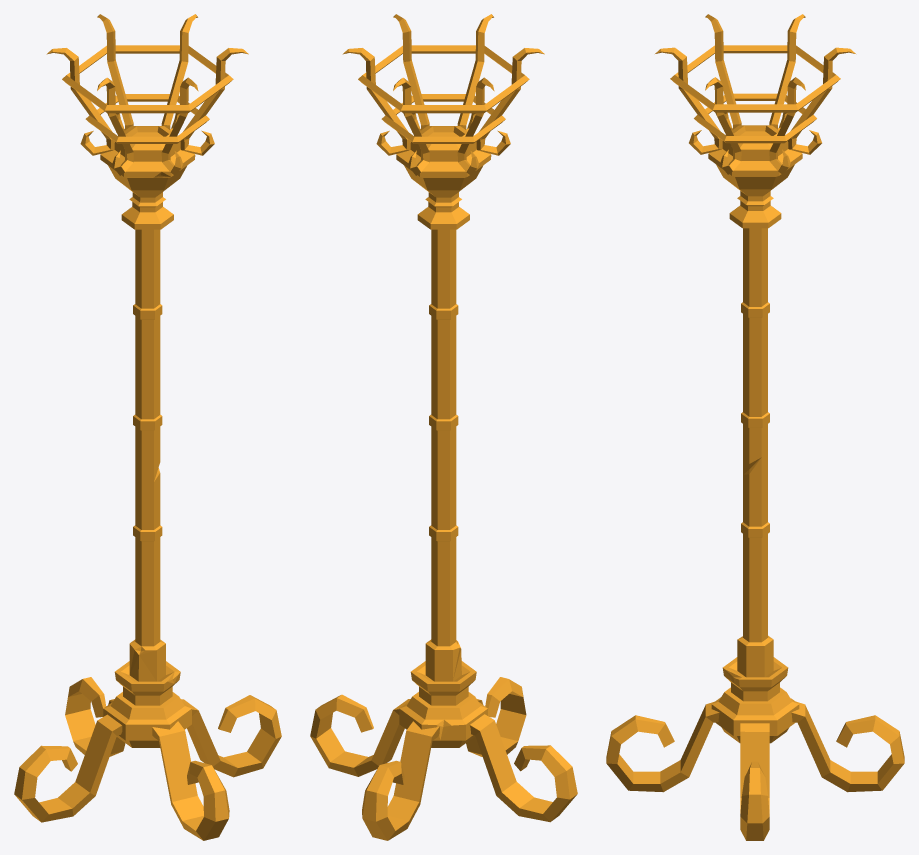
The model's file is SM_Lamp_Metal_A_Fantasy.fbx.
3 renders of one model, left to right at view 1: azimuth 30°, elevation 25°; view 2: azimuth 150°, elevation 25°; view 3: azimuth 270°, elevation 25°, orthographic.
Visible parts, largest first — view 1: lamp-metal-a-fantasy; view 2: lamp-metal-a-fantasy; view 3: lamp-metal-a-fantasy.
Boxes of the visible parts, left/top/right/bottom form: lamp-metal-a-fantasy: left=14, top=14, right=281, bottom=840; lamp-metal-a-fantasy: left=310, top=14, right=577, bottom=840; lamp-metal-a-fantasy: left=606, top=14, right=904, bottom=840.
Bounding box in the file's own units: 0.5957 × 1.63 × 0.5957.
